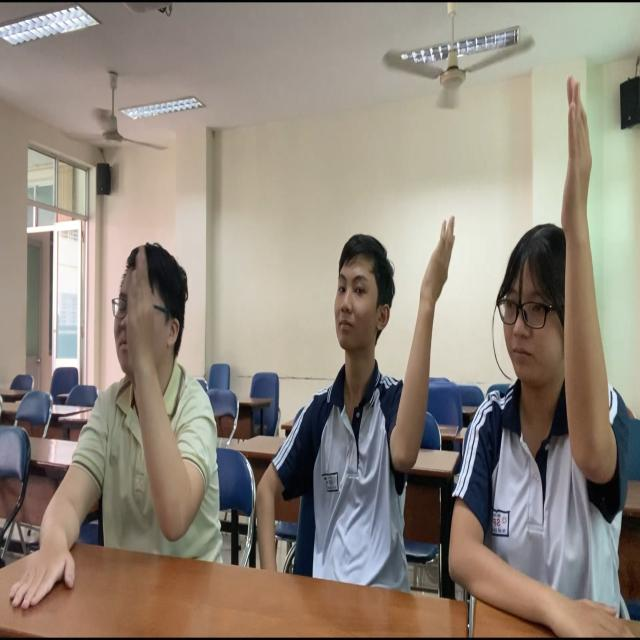raise_hand: (478, 83, 640, 638), (93, 229, 222, 600)
